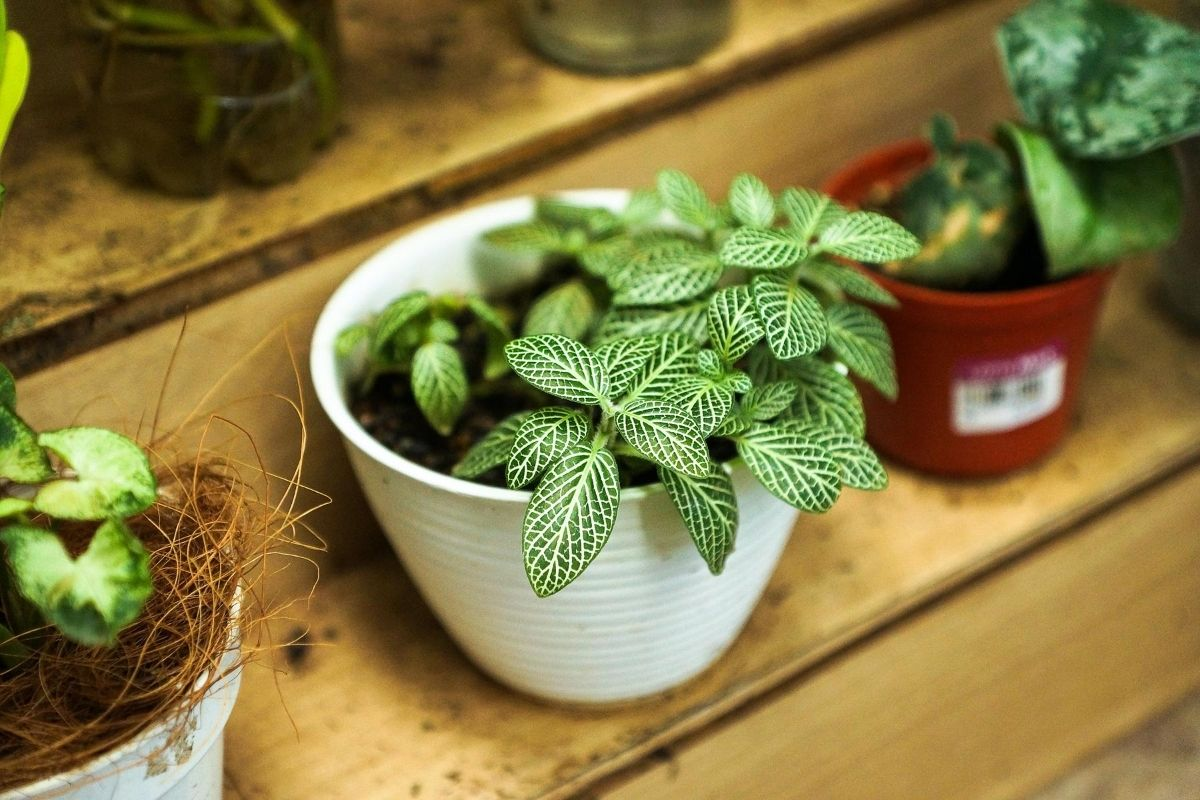tanaman: (302, 153, 908, 747), (861, 129, 1135, 478)
